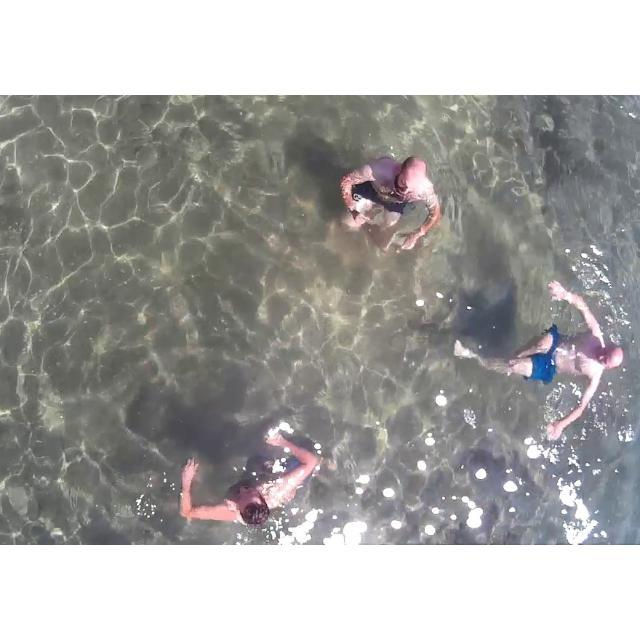human: (459, 264, 626, 455), (171, 416, 320, 538), (334, 136, 442, 260)
